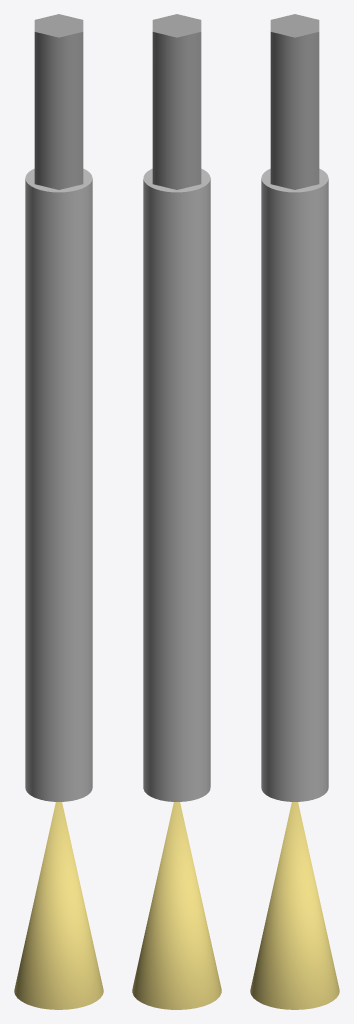
File: broca-diamantada.glb
3 renders of one model, left to right at view 1: azimuth 90°, elevation 25°; view 2: azimuth 150°, elevation 25°; view 3: azimuth 270°, elevation 25°, orthographic.
Parts seen in each view (by area): view 1: corpo, ponta_diamantada, encaixe; view 2: corpo, ponta_diamantada, encaixe; view 3: corpo, ponta_diamantada, encaixe.
Boxes of the visible parts, bbox=[...] form: corpo: bbox=[25, 168, 92, 801]; ponta_diamantada: bbox=[14, 802, 103, 1009]; encaixe: bbox=[34, 14, 83, 189]; corpo: bbox=[143, 168, 210, 801]; ponta_diamantada: bbox=[132, 802, 221, 1009]; encaixe: bbox=[152, 14, 201, 189]; corpo: bbox=[261, 168, 328, 801]; ponta_diamantada: bbox=[250, 802, 339, 1009]; encaixe: bbox=[270, 14, 319, 189].
Size of the model in its own units: 0.16 by 1.9 by 0.16.
